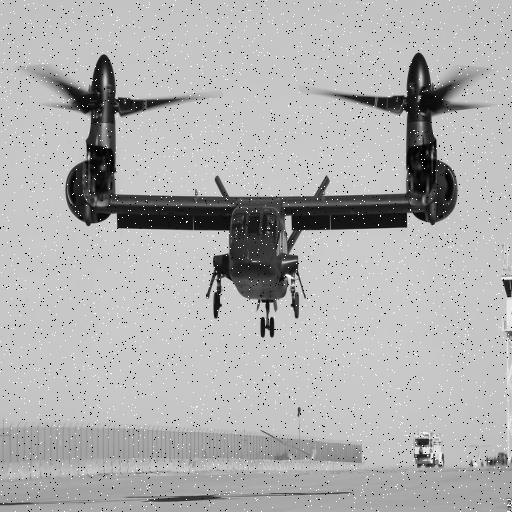helicopter: (40, 49, 463, 337)
